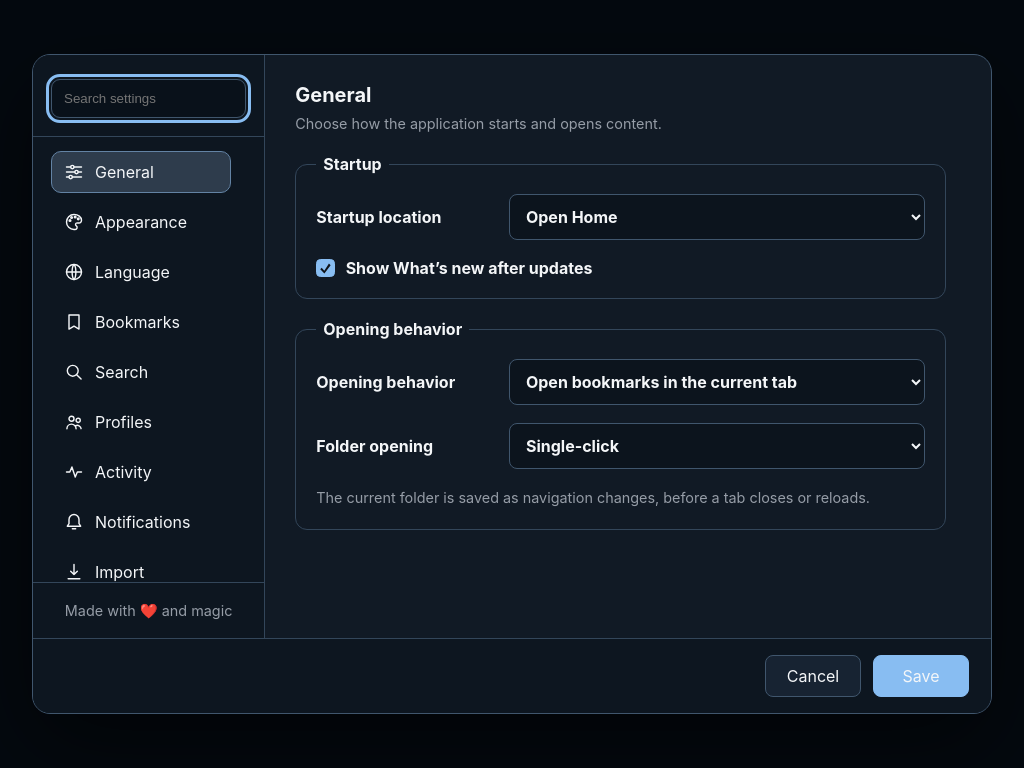
it: BookmarkDisplaySettingsDialog › matches category content and marks only available matching categories
Type "duplicate handling" into the search field with placeholder "Search settings" at coordinates (149, 98), box [51,79,246,118]
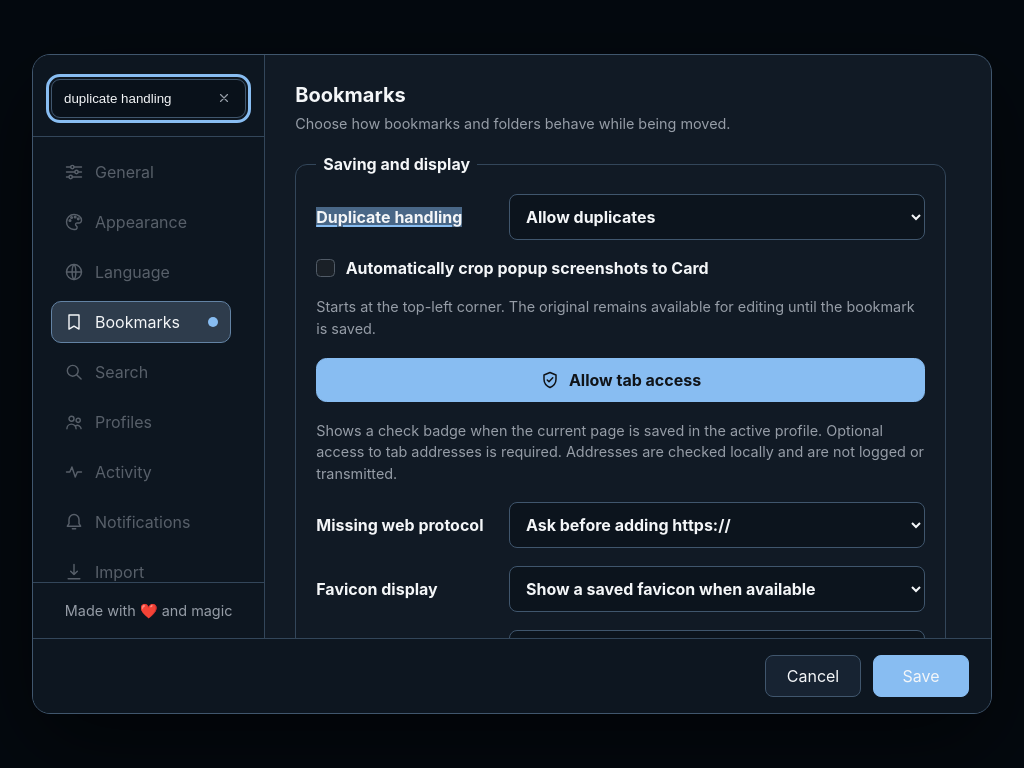
Now the element with class "settings-dialog__match-dot" is shown, box [208,317,218,327]
Now the button "General" is disabled, box [51,151,231,193]
Now the button "Import" is disabled, box [51,551,231,582]
